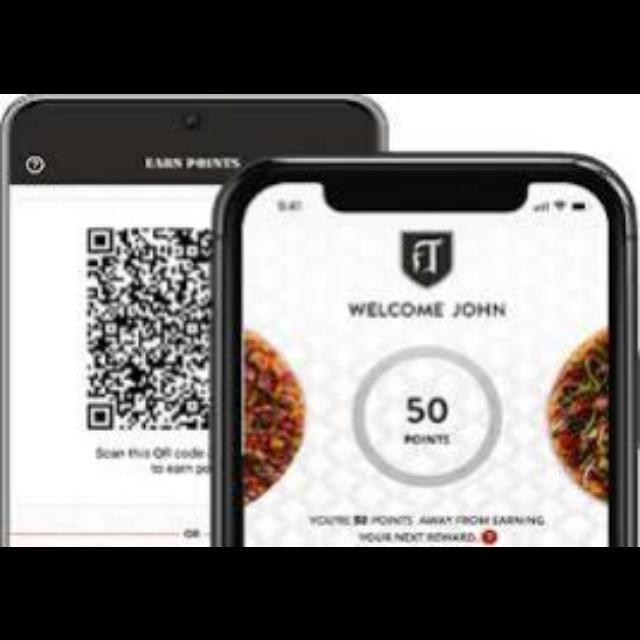phone: (208, 155, 640, 547)
